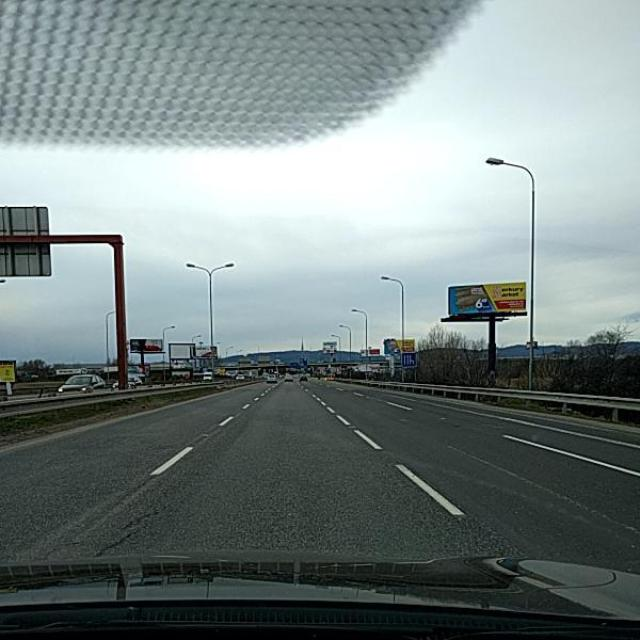Crack: (80, 419, 171, 578)
